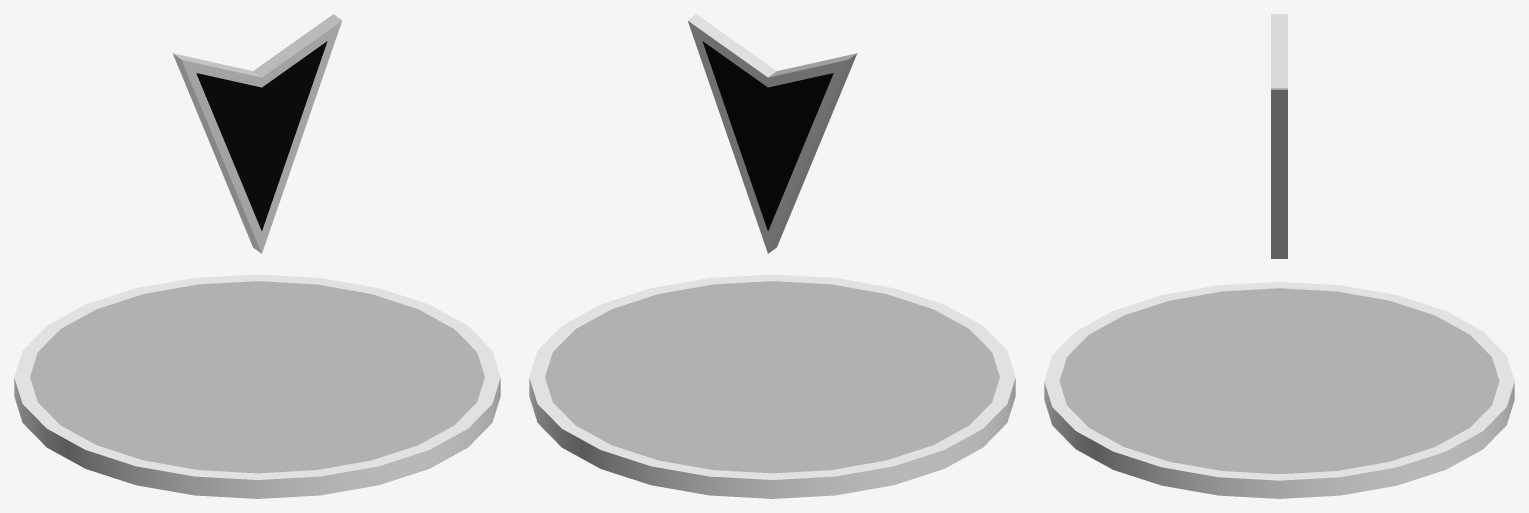
The model's file is cursor_pointer.glb.
The picture shows the model from 3 angles, left to right: view 1: azimuth 30°, elevation 25°; view 2: azimuth 150°, elevation 25°; view 3: azimuth 270°, elevation 25°; orthographic projection. The views are drawn at different scales.
Parts seen in each view (by area): view 1: cilindo, cursor; view 2: cilindo, cursor; view 3: cilindo, cursor.
Boxes of the visible parts, bbox=[...] form: cilindo: bbox=[14, 274, 500, 498]; cursor: bbox=[172, 14, 342, 253]; cilindo: bbox=[529, 274, 1015, 498]; cursor: bbox=[687, 14, 857, 253]; cilindo: bbox=[1044, 281, 1514, 498]; cursor: bbox=[1271, 14, 1287, 258].
Size of the model in its own units: 0.1527 by 0.1244 by 0.1527.
Materials: 1 (1 with a texture image).
